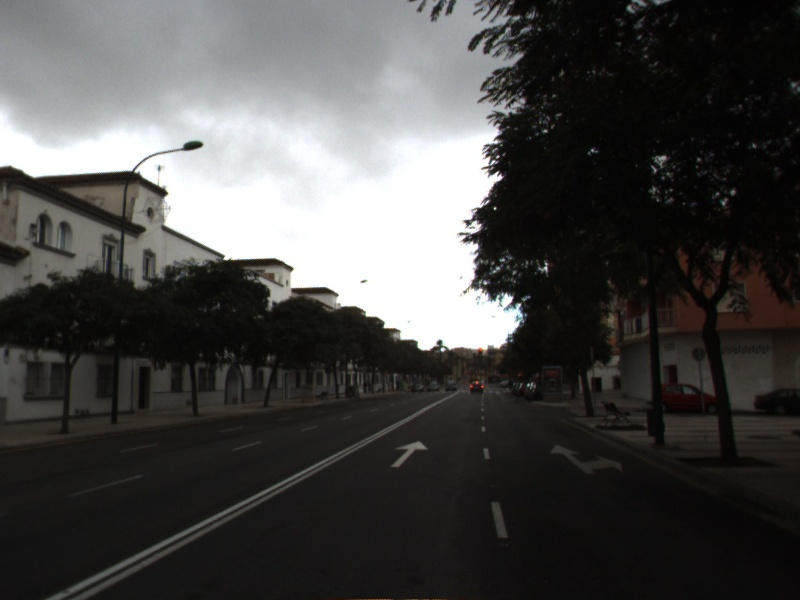STRAIGHT: (390, 439, 429, 468)
STRAIGHT_RIGHT: (549, 443, 623, 476)
